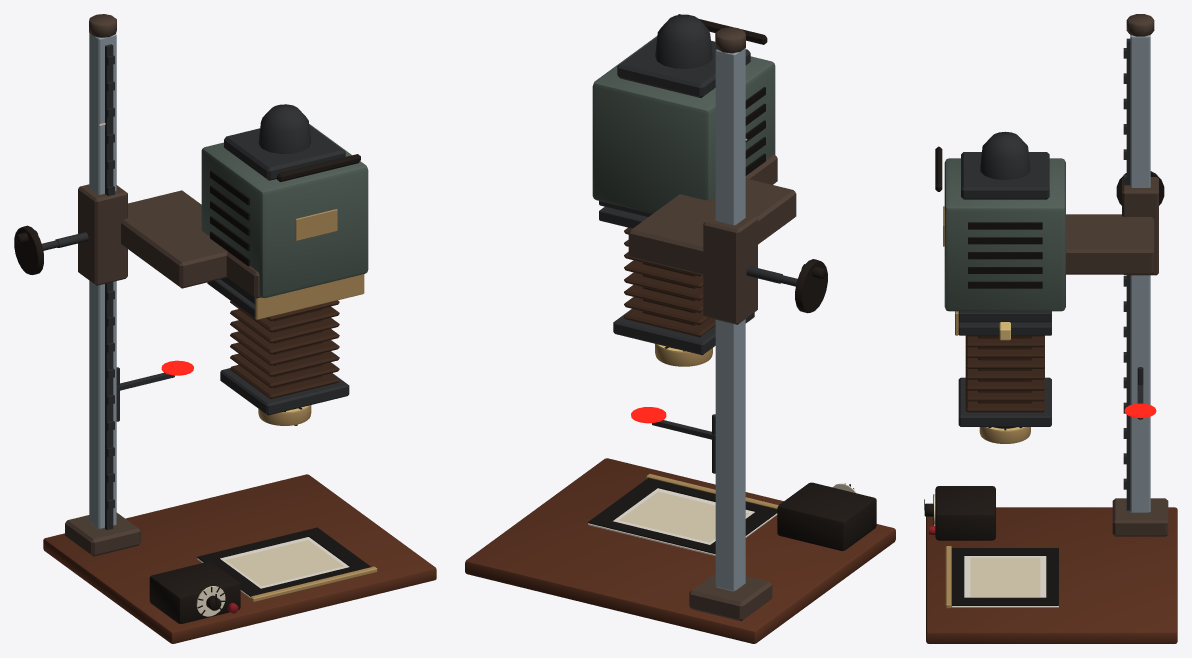
The model's file is enlarger.glb.
The picture shows the model from 3 angles, left to right: view 1: azimuth 30°, elevation 25°; view 2: azimuth 150°, elevation 25°; view 3: azimuth 270°, elevation 25°; orthographic projection. The views are drawn at different scales.
Parts seen in each view (by area): view 1: IA_head, enlarger_body, projected_image, IA_zoom_knob, IA_focus_ring; view 2: enlarger_body, IA_head, projected_image, IA_zoom_knob, IA_focus_ring; view 3: enlarger_body, IA_head, projected_image, IA_focus_ring.
Part boxes in pixels (left/top/right/bottom): IA_head: left=55, top=104, right=368, bottom=425; enlarger_body: left=43, top=14, right=436, bottom=643; projected_image: left=225, top=540, right=343, bottom=586; IA_zoom_knob: left=14, top=225, right=58, bottom=274; IA_focus_ring: left=258, top=405, right=311, bottom=425; enlarger_body: left=465, top=27, right=895, bottom=643; IA_head: left=592, top=14, right=796, bottom=355; projected_image: left=619, top=491, right=748, bottom=542; IA_zoom_knob: left=778, top=259, right=827, bottom=313; IA_focus_ring: left=655, top=344, right=712, bottom=366; enlarger_body: left=924, top=14, right=1177, bottom=643; IA_head: left=935, top=131, right=1158, bottom=428; projected_image: left=970, top=557, right=1040, bottom=596; IA_focus_ring: left=979, top=427, right=1030, bottom=443.
Size of the model in its own units: 0.745 by 1.23 by 0.544.
